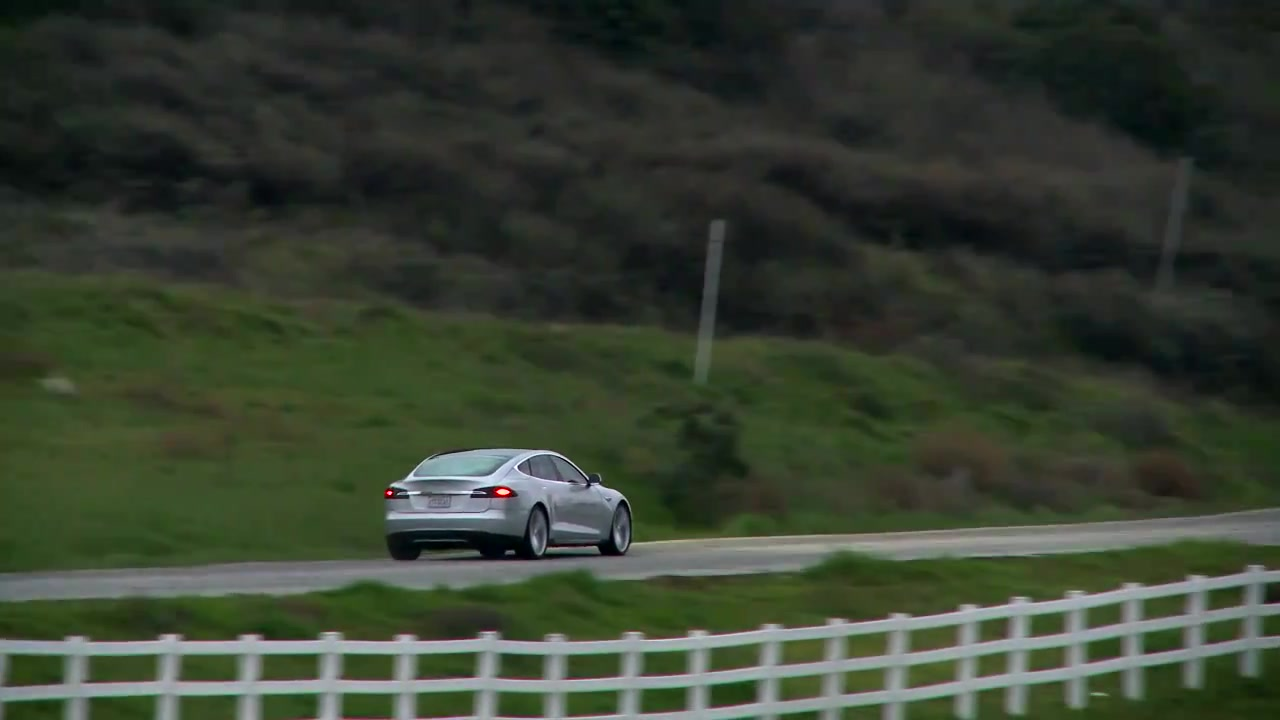car: (381, 448, 641, 565)
